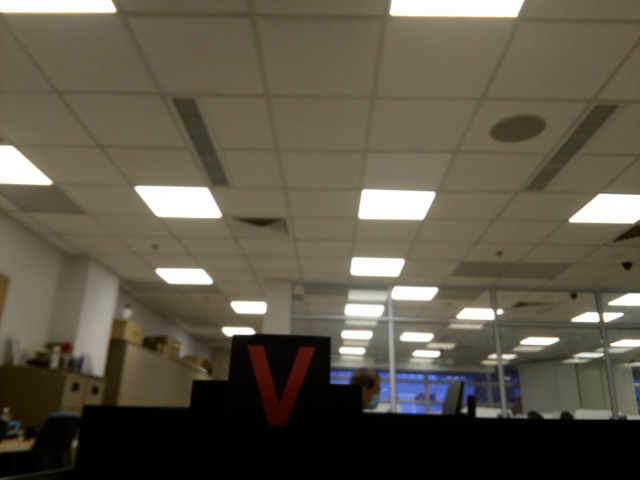v: (241, 336, 316, 429)
